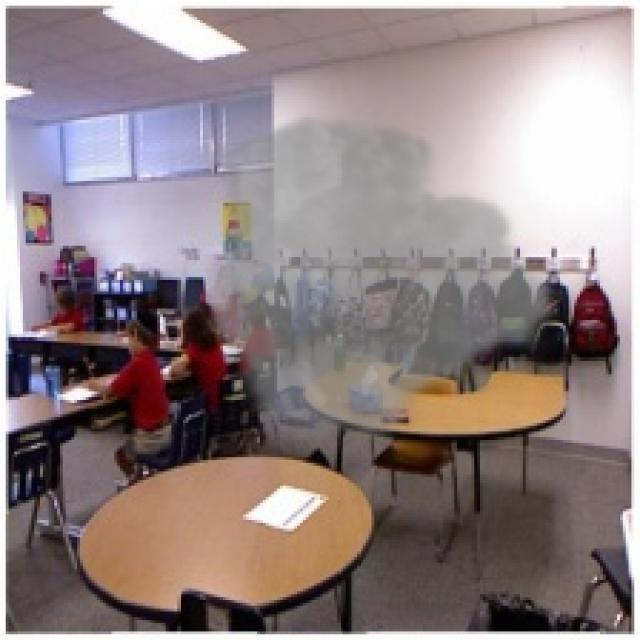Smoke: (203, 109, 566, 452)
